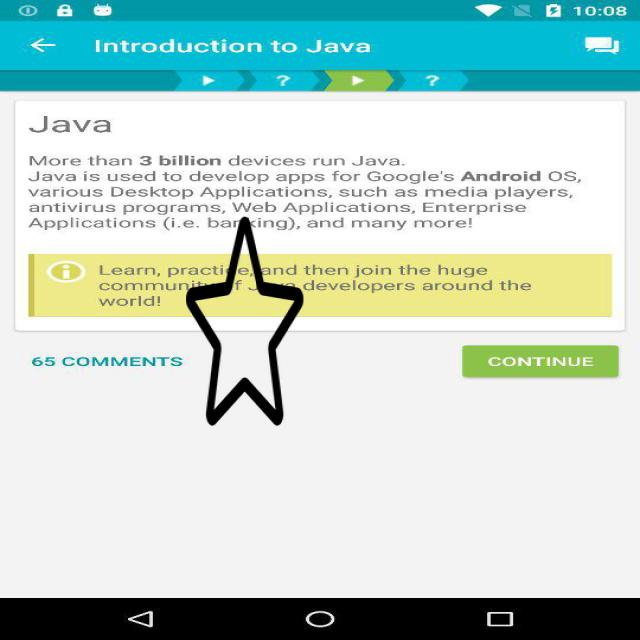forced continuity: (186, 212, 303, 430)
